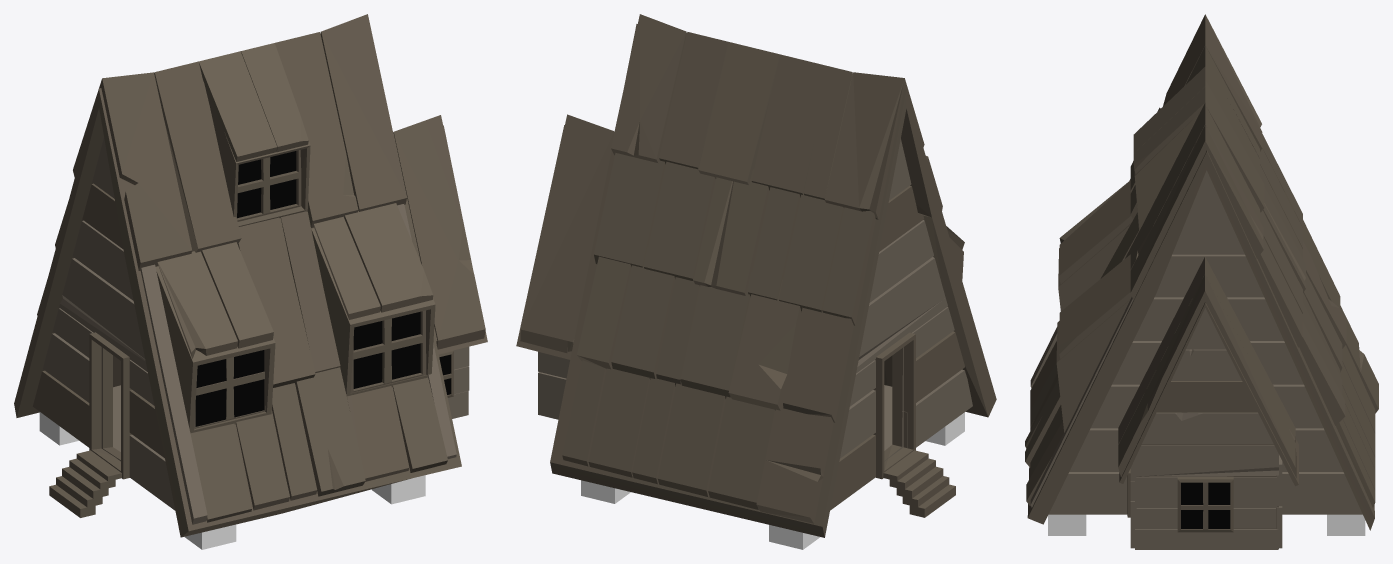
The model's file is house_aframe.glb.
The picture shows the model from 3 angles, left to right: view 1: azimuth 30°, elevation 25°; view 2: azimuth 150°, elevation 25°; view 3: azimuth 270°, elevation 25°; orthographic projection. The views are drawn at different scales.
Visible parts, largest first — view 1: HOUSE2; view 2: HOUSE2; view 3: HOUSE2.
Part boxes in pixels (x1,y1,x2,y2): HOUSE2: [14, 14, 487, 549]; HOUSE2: [516, 14, 996, 549]; HOUSE2: [1025, 14, 1378, 549].
Size of the model in its own units: 8.01 by 8.51 by 6.67.
Materials: 1 (1 with a texture image).
